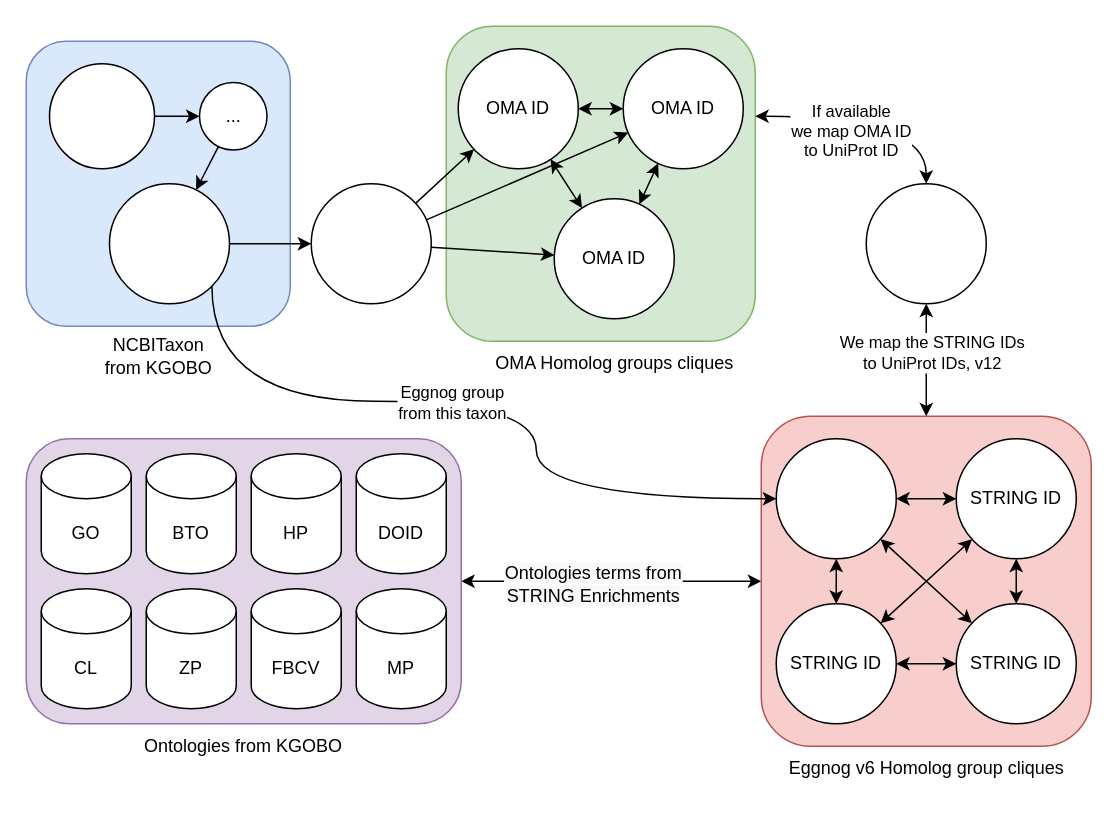
Image size: 1118x818. Some labels were removed from this diagram. The shapes that lost their labels are listed below. From the top down, each one's box as (x1, y1, x2, y2) in pixels, then its label:
(48, 62, 154, 169): LUCA
(108, 182, 230, 304): NCBI ID
(310, 182, 431, 304): OMA ID PREFIX
(865, 182, 986, 304): UNIPROT ID
(775, 437, 896, 559): EGGNOG GROUP ID
